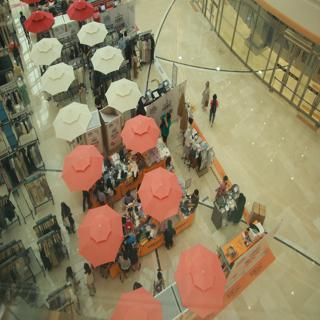person: (57, 193, 78, 237), (78, 262, 98, 302), (211, 92, 220, 129)
